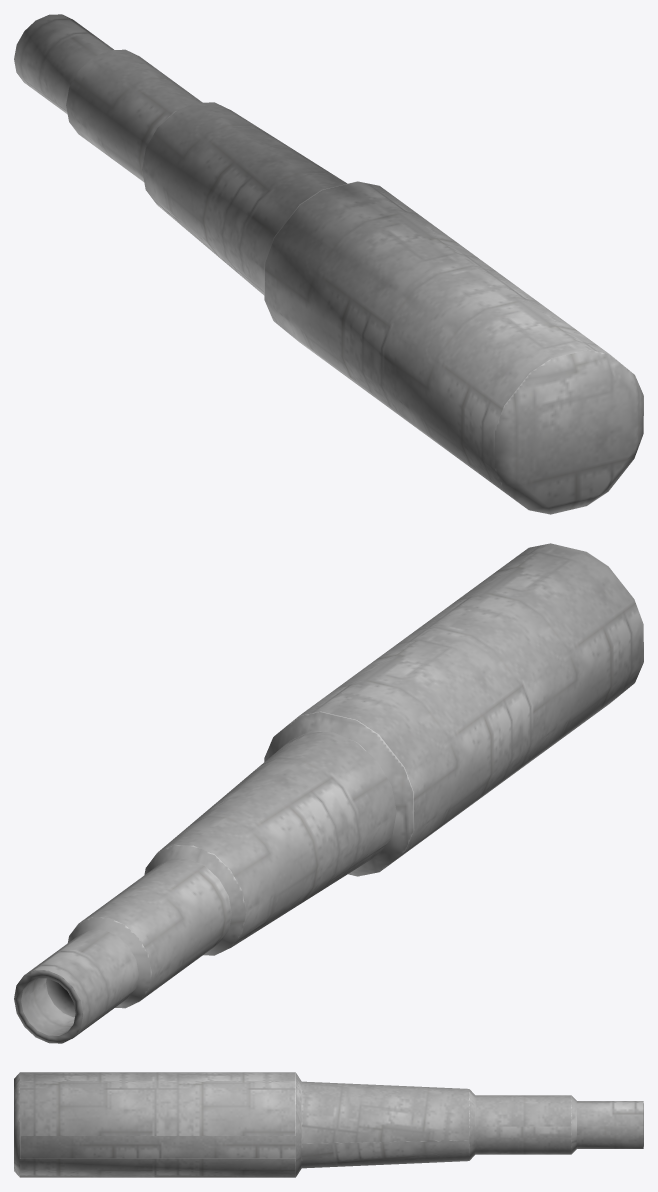
The model's file is w_cannon.obj.
The picture shows the model from 3 angles, top to bottom: view 1: azimuth 30°, elevation 25°; view 2: azimuth 150°, elevation 25°; view 3: azimuth 270°, elevation 25°; orthographic projection. The views are drawn at different scales.
Parts seen in each view (by area): view 1: w_cannon; view 2: w_cannon; view 3: w_cannon.
Boxes of the visible parts, x1,y1,x2,y2 form: w_cannon: [14, 14, 643, 514]; w_cannon: [14, 543, 643, 1043]; w_cannon: [14, 1072, 643, 1177].
Size of the model in its own units: 0.7073 by 0.7073 by 4.31.
1 material, 1 textured.
